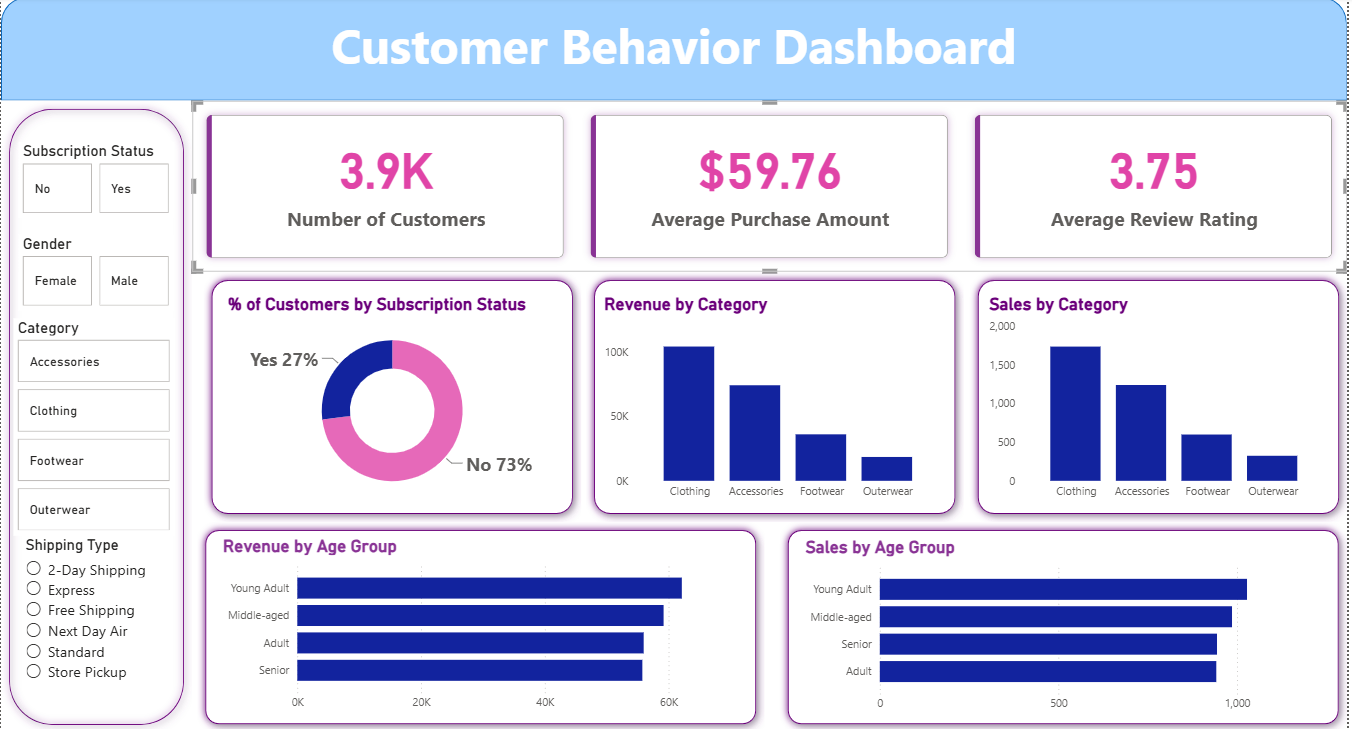

The page's visual inventory and layout, read from the dashboard file:
{"tool":"powerbi","page":{"name":"Page 1","canvas":[1500,820],"ordinal":0},"visuals":[{"type":"cardVisual","fields":{"Data":["public customer.Number of Customers","public customer.Average Purchase Amount","public customer.Average Review Rating"]},"box":[212.9,115.3,1286.5,191.6],"z":2000},{"type":"shape","box":[218.3,585.6,631.7,234.2],"z":2500,"group":"g1"},{"type":"shape","box":[0,0,1499.4,115.3],"z":3000},{"type":"textbox","box":[0,12.4,1499.4,102.9],"z":4000},{"type":"shape","box":[225.4,307,420.5,278.6],"z":5000},{"type":"donutChart","title":"% of Customers by Subscription Status","fields":{"Category":["public customer.subscription_status"],"Y":["CountNonNull(public customer.customer_id)"]},"box":[248.4,331.8,376.2,237.8],"z":6000},{"type":"shape","box":[1078.9,307,420.5,278.6],"z":7000},{"type":"shape","box":[652.1,307,420.5,278.6],"z":8000},{"type":"clusteredColumnChart","title":"Revenue by Category","fields":{"Y":["Sum(public customer.purchase_amount)"],"Category":["public customer.category"]},"box":[667.2,331.8,385.1,237.8],"z":9000},{"type":"clusteredColumnChart","title":"Sales by Category","fields":{"Y":["CountNonNull(public customer.customer_id)"],"Category":["public customer.category"]},"box":[1096.6,331.8,385.1,237.8],"z":10000},{"type":"shape","box":[0,115.3,212.9,704.5],"z":11000},{"type":"advancedSlicerVisual","fields":{"Values":["public customer.subscription_status"]},"box":[19.5,161.5,173.9,85.2],"z":12000},{"type":"advancedSlicerVisual","fields":{"Values":["public customer.gender"]},"box":[19.5,264.4,173.9,85.2],"z":13000},{"type":"advancedSlicerVisual","fields":{"Values":["public customer.category"]},"box":[13.9,357.9,179.7,242.3],"z":14000},{"type":"listSlicer","fields":{"Values":["public customer.shipping_type"]},"box":[22.3,600.2,168.5,220],"z":15000},{"type":"shape","box":[867.7,585.6,631.7,234.2],"z":16000},{"type":"clusteredBarChart","title":"Sales by Age Group","fields":{"Y":["CountNonNull(public customer.customer_id)"],"Category":["public customer.age_group"]},"box":[890.8,601.5,585.6,204.1],"z":17000},{"type":"clusteredBarChart","title":"Revenue by Age Group","fields":{"Y":["Sum(public customer.purchase_amount)"],"Category":["public customer.age_group"]},"box":[241.4,601.6,585.6,204.1],"z":17500,"group":"g1"},{"type":"group","id":"g1","title":"Group 1","box":[218.3,585.6,631.7,234.2],"z":17501}]}

Visuals, with their boxes in screenshot pixels (x1, y1, x2, y2), scaled from the page's 1500x820 canvas onto the 1352x729 screenshot:
cardVisual - public customer.Number of Customers x public customer.Average Purchase Amount: bbox=(192, 103, 1351, 273)
shape: bbox=(197, 521, 766, 728)
shape: bbox=(0, 0, 1351, 103)
textbox: bbox=(0, 11, 1351, 103)
shape: bbox=(203, 273, 582, 521)
"% of Customers by Subscription Status" donutChart: bbox=(224, 295, 563, 506)
shape: bbox=(972, 273, 1351, 521)
shape: bbox=(588, 273, 967, 521)
"Revenue by Category" clusteredColumnChart: bbox=(601, 295, 948, 506)
"Sales by Category" clusteredColumnChart: bbox=(988, 295, 1336, 506)
shape: bbox=(0, 103, 192, 728)
advancedSlicerVisual - public customer.subscription_status: bbox=(18, 144, 174, 219)
advancedSlicerVisual - public customer.gender: bbox=(18, 235, 174, 311)
advancedSlicerVisual - public customer.category: bbox=(13, 318, 174, 534)
listSlicer - public customer.shipping_type: bbox=(20, 534, 172, 728)
shape: bbox=(782, 521, 1351, 728)
"Sales by Age Group" clusteredBarChart: bbox=(803, 535, 1331, 716)
"Revenue by Age Group" clusteredBarChart: bbox=(218, 535, 745, 716)
"Group 1" group: bbox=(197, 521, 766, 728)
